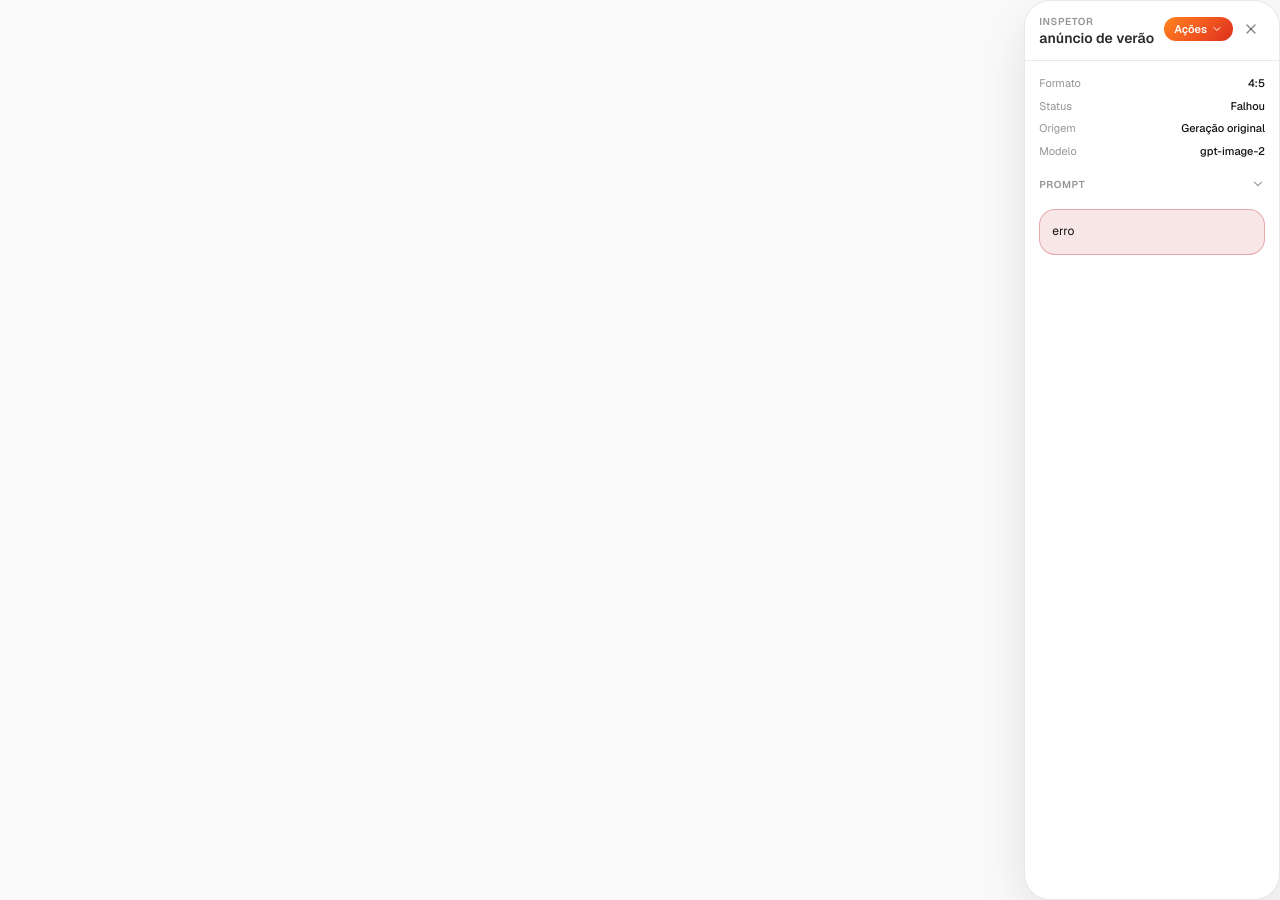
Test: AssetInspector — rodapé de ações › arte que falhou oferece apagar, mas não usar como referência
Click the button with aria-label "Ações desta arte". click: point(1199, 29)
box: [1164, 17, 1233, 41]
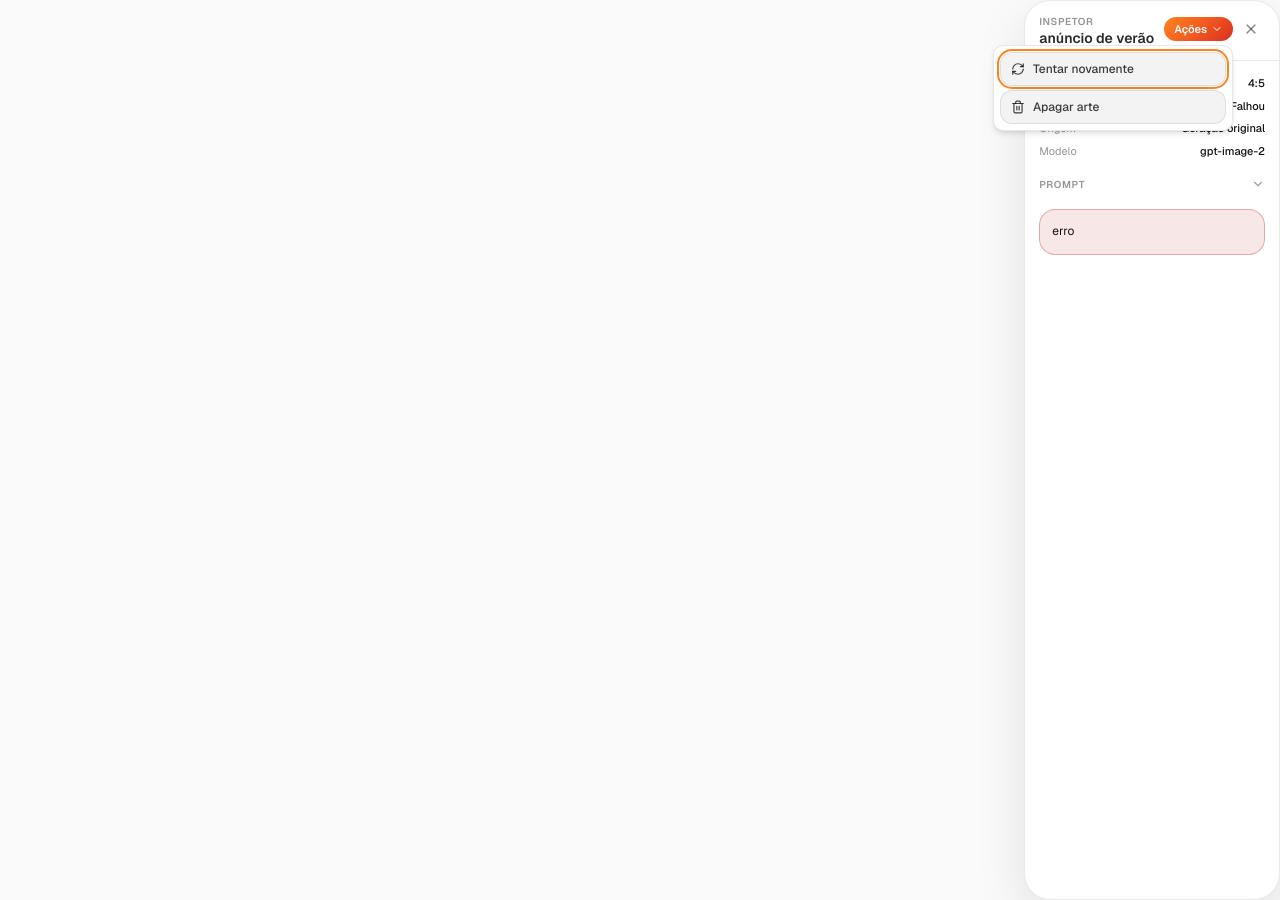
Check: the button "Apagar arte" is shown, box [1000, 90, 1226, 124]
